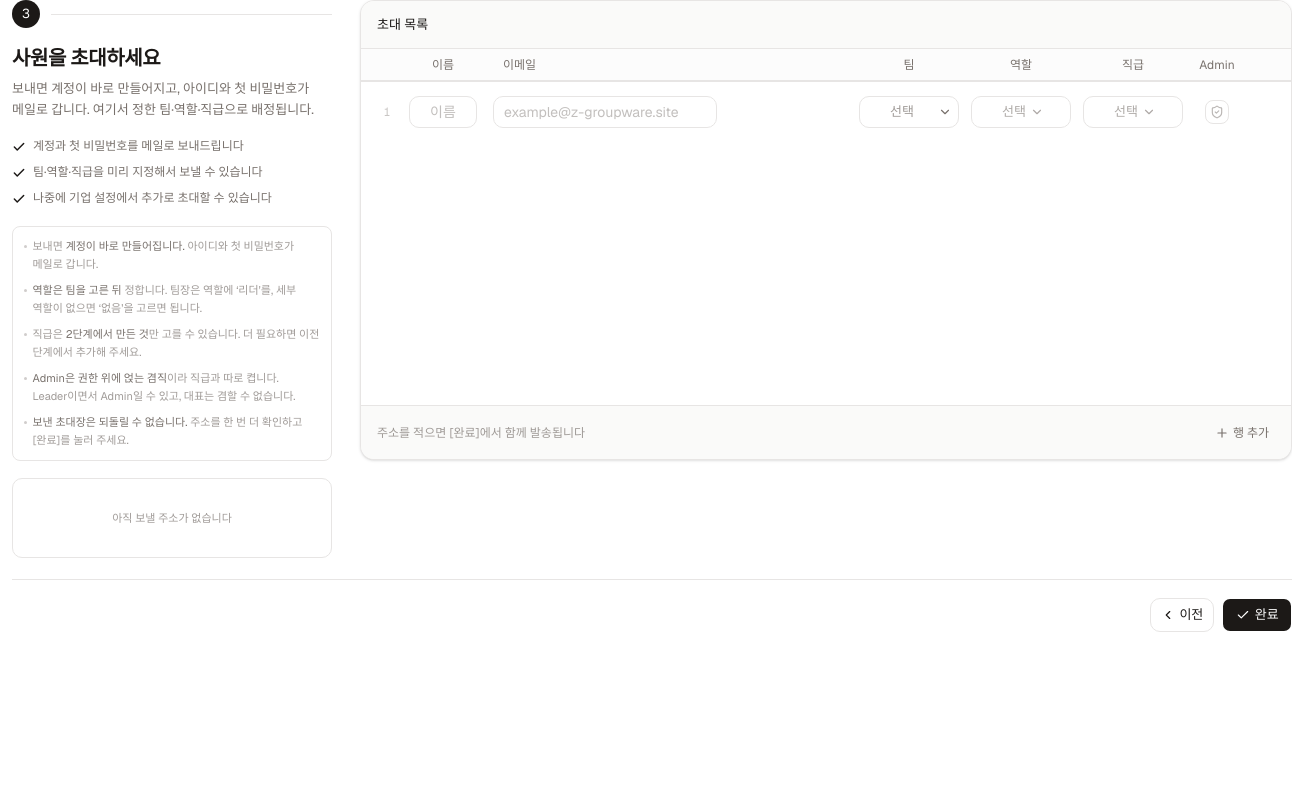
InviteSetup › 형식이 어긋난 주소는 그 자리에서 알려준다
Type "hyun" into the field named "초대할 메일 주소" at {"x": 605, "y": 112}, box [493, 96, 717, 128]
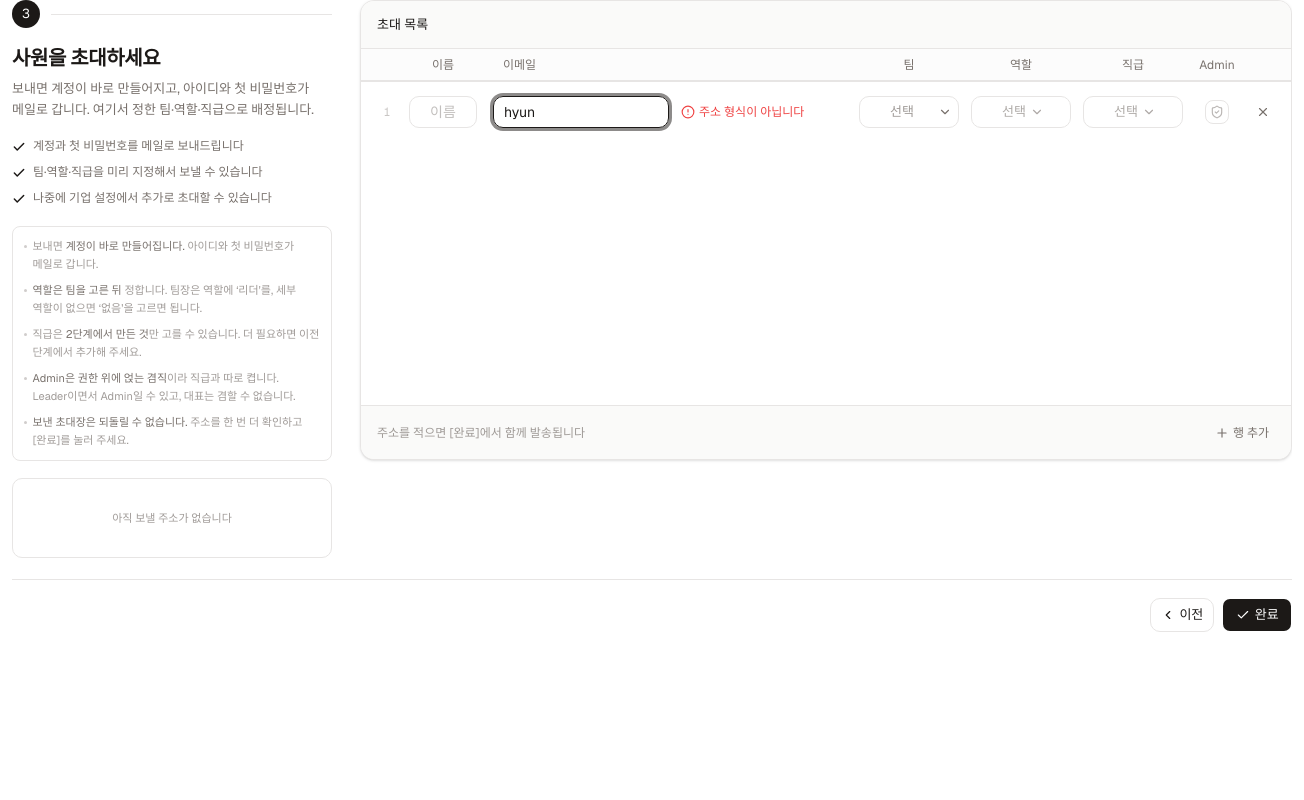
Expected: the text "주소 형식이 아닙니다" is shown, [699, 104, 804, 120]
